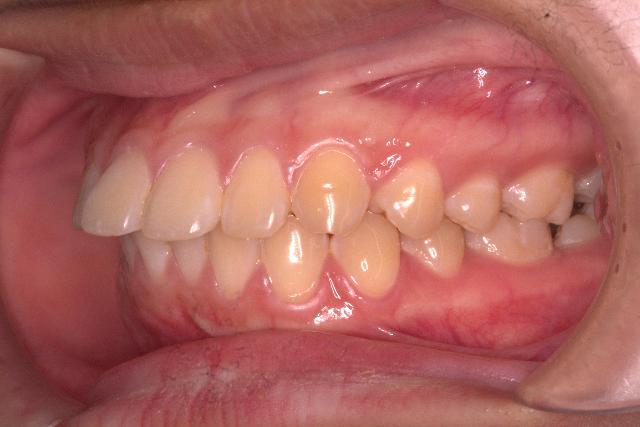canine class I: (260, 140, 402, 314)
molar class III 1/4: (464, 156, 578, 274)
